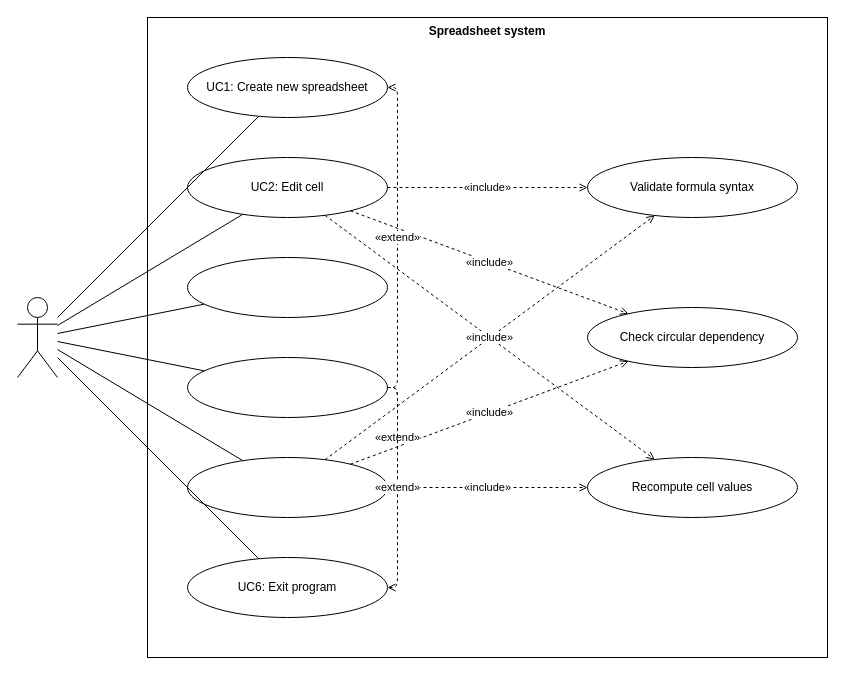
This 845x675 diagram has some shape labels left out. Here are the shapes that lost their labels. From the top down, the centre of each, then its label:
the point at 287,287: UC3: Show spreadsheet
the point at 37,337: User
the point at 287,387: UC4: Save spreadsheet (S2V)
the point at 287,487: UC5: Load spreadsheet (S2V)
